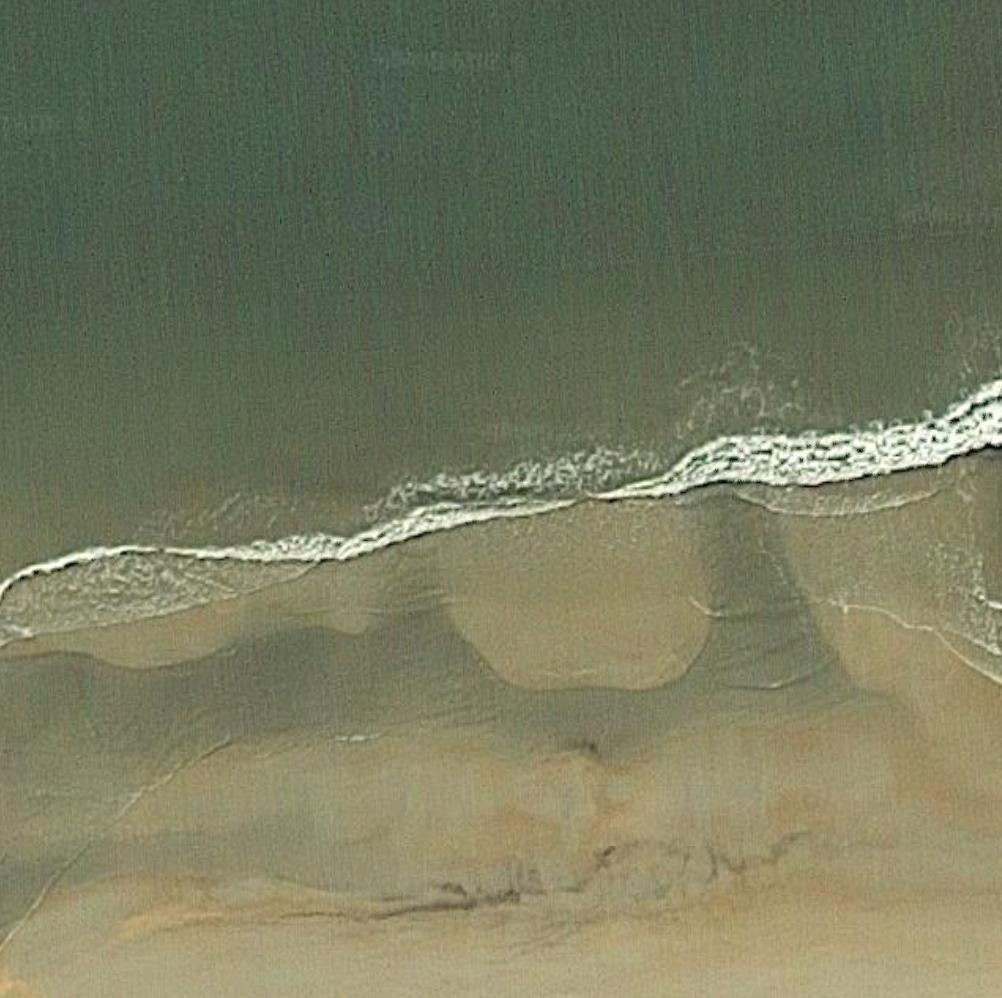rip_current: (649, 388, 781, 556)
